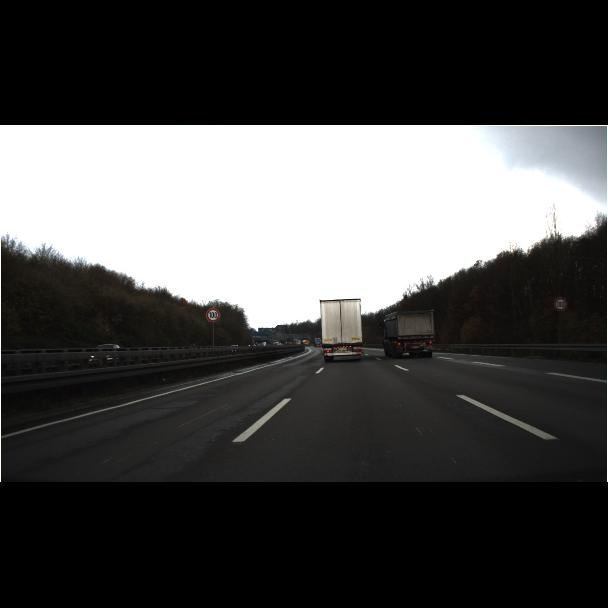speed limit 100: (206, 297, 567, 323)
